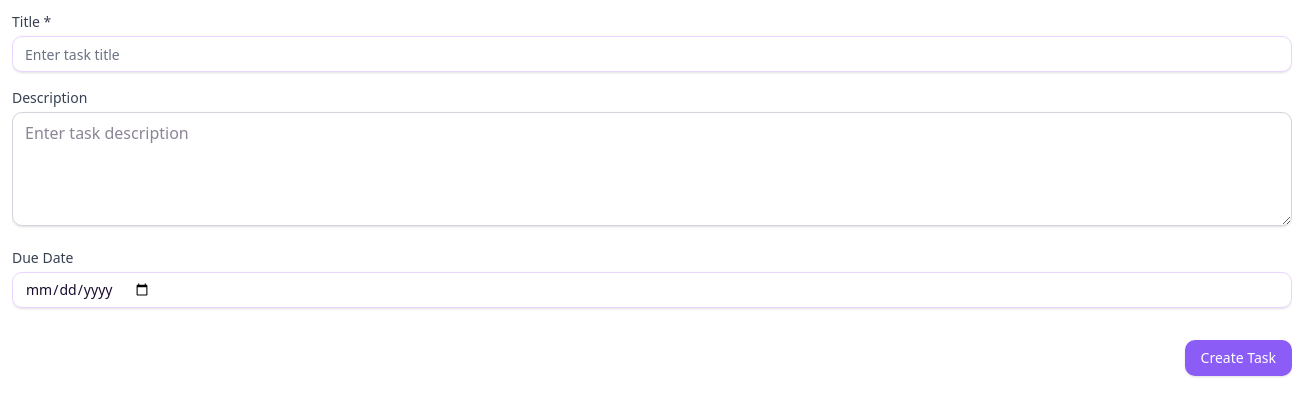
Test: TaskForm Component › shows loading state when submitting
Type "New Task" into the field labelled "Title *" at (652, 54), box [12, 36, 1292, 72]
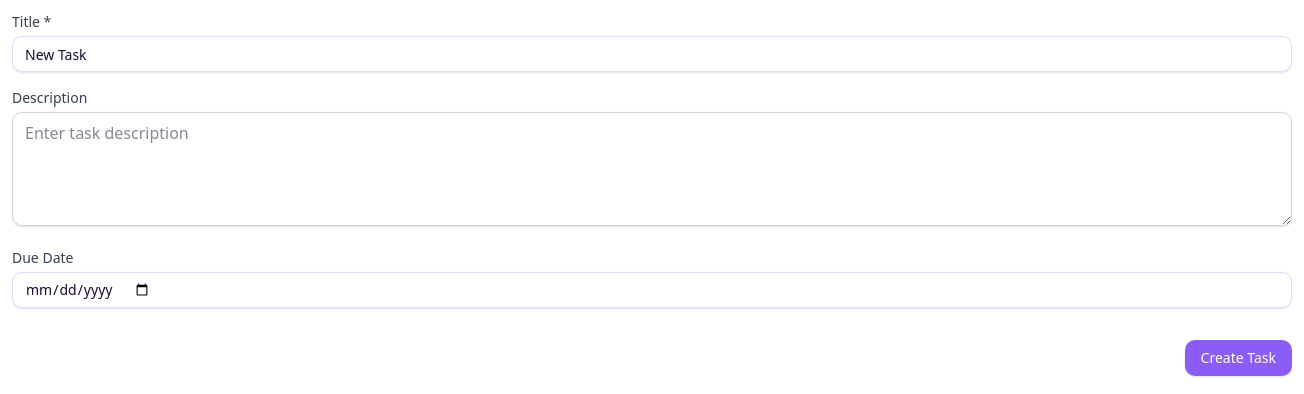
Click the button "Create Task" at (1238, 358), box [1185, 340, 1292, 376]
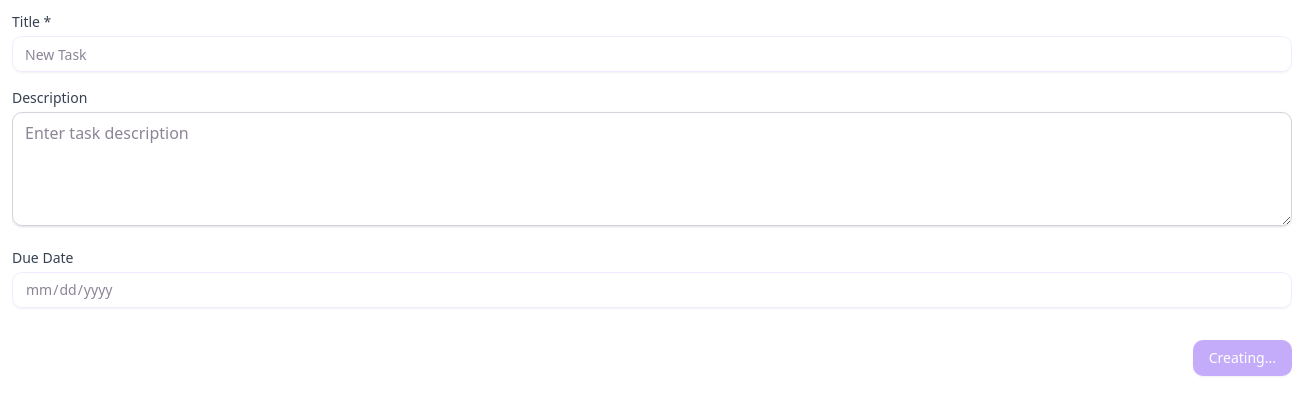
Expected: the button named "create task" is disabled, [1193, 340, 1292, 376]
